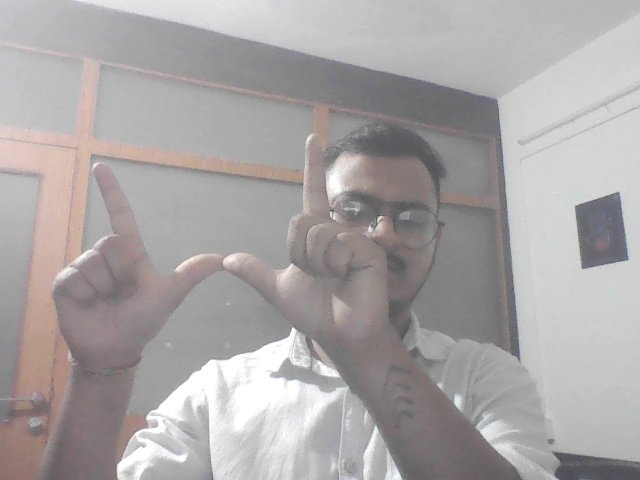Whatever: (45, 126, 394, 364)
